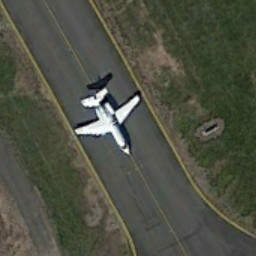Airplane: (63, 82, 147, 164)
